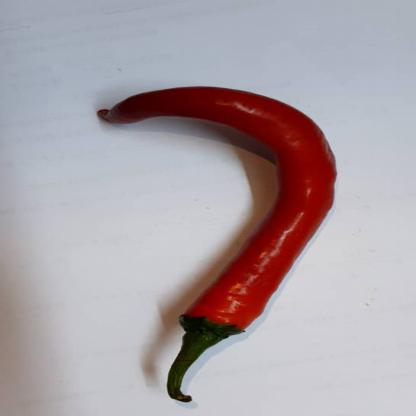chili: (87, 85, 336, 416)
